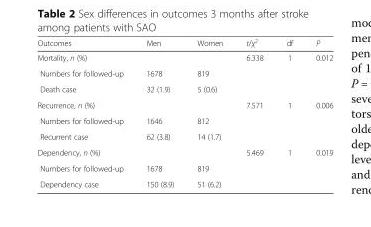table: (36, 36, 332, 188)
table column: (36, 36, 134, 188), (134, 36, 184, 188), (184, 36, 233, 188), (233, 36, 274, 188), (274, 36, 303, 188), (303, 36, 332, 188)
table column header: (36, 36, 332, 49)
table row: (36, 49, 332, 65), (36, 80, 332, 96), (36, 96, 332, 112), (36, 112, 332, 128), (36, 128, 332, 144), (36, 159, 332, 175), (36, 65, 332, 80), (36, 144, 332, 159), (36, 36, 332, 49), (36, 175, 332, 188)
